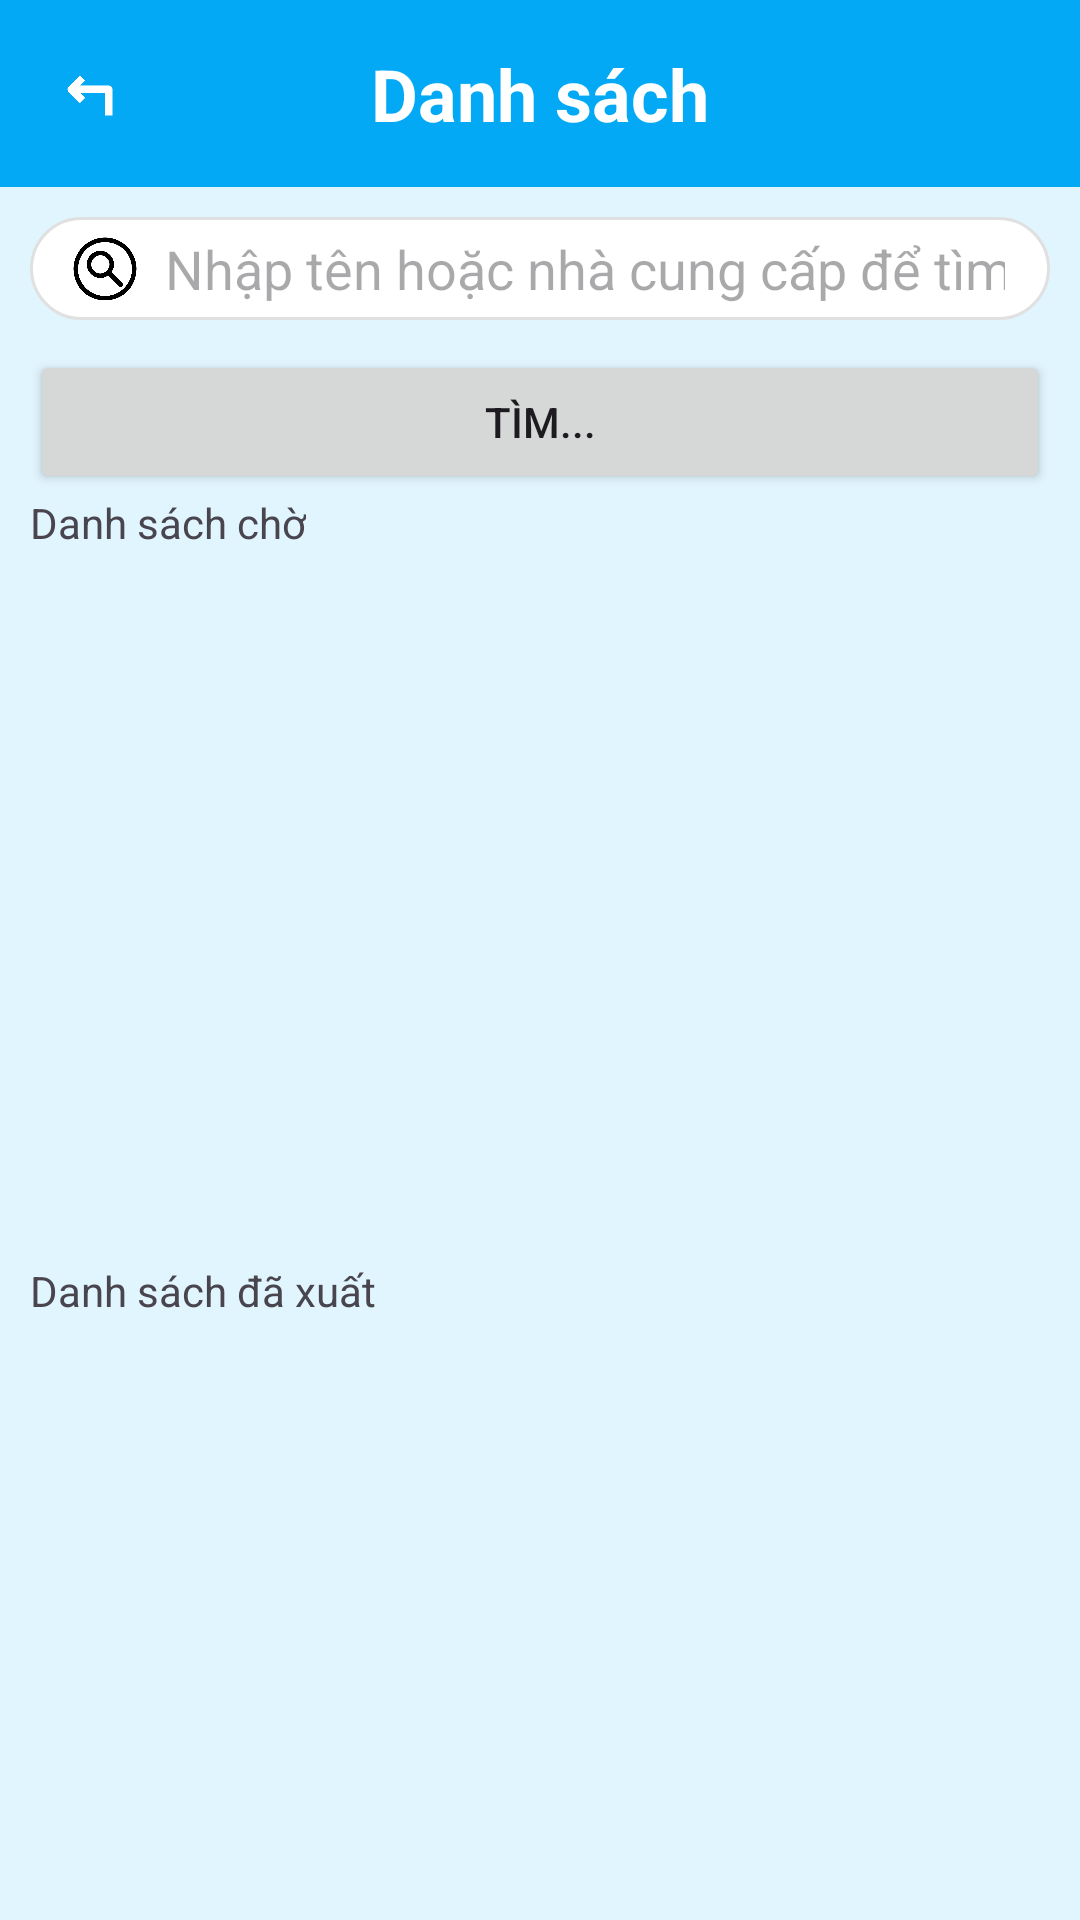

Icon click points for this 1080px x 1920px phone screenshot, format [x,y]:
search: [105,268]
